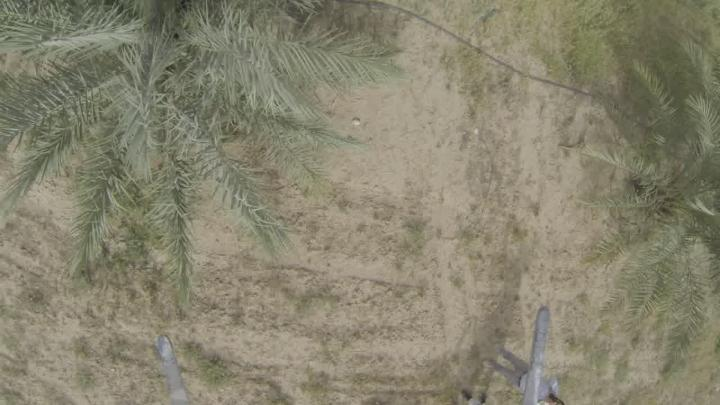Date-Palm-Crown: (0, 0, 314, 206), (618, 73, 720, 333)
